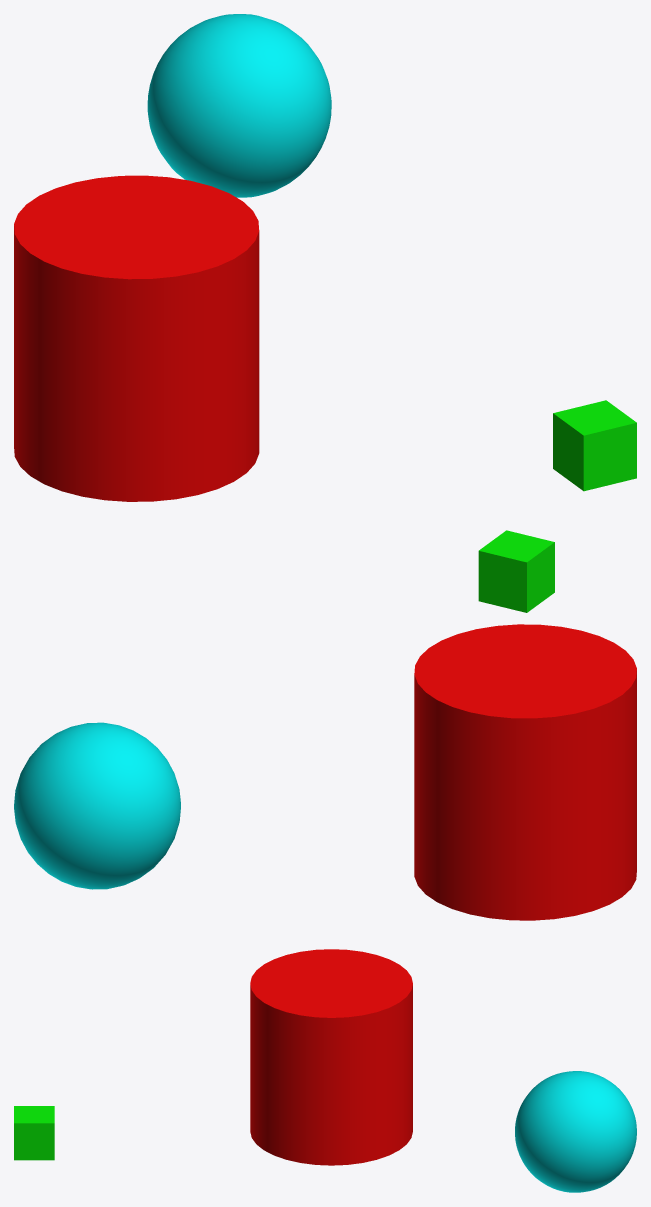
3 views of the same model, one above another, from view 1: azimuth 30°, elevation 25°; view 2: azimuth 150°, elevation 25°; view 3: azimuth 270°, elevation 25° (orthographic). The views are drawn at different scales.
Bounding box in the file's own units: 8.9 × 4 × 15.3.
